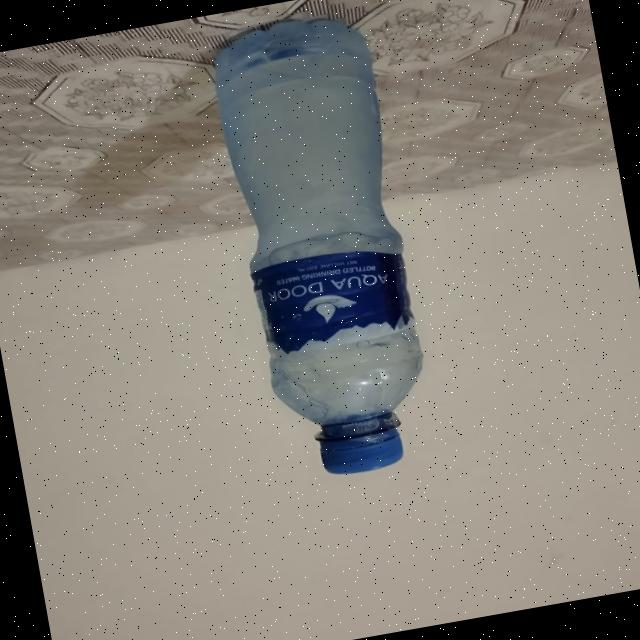bottle: (204, 6, 443, 484)
cap: (317, 428, 405, 478)
label: (247, 242, 413, 359)
